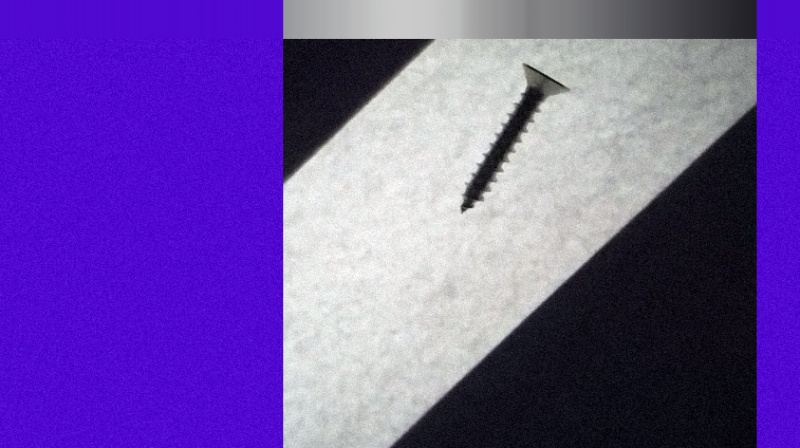S001: (452, 56, 572, 217)
